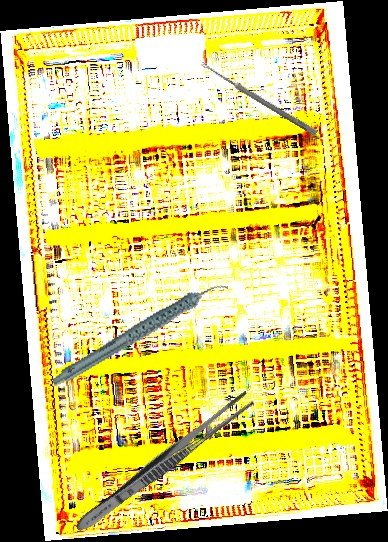Dressing Forceps: (71, 387, 256, 538)
Handpiece: (39, 280, 242, 389)
Surgical Spoon: (199, 60, 319, 137)
